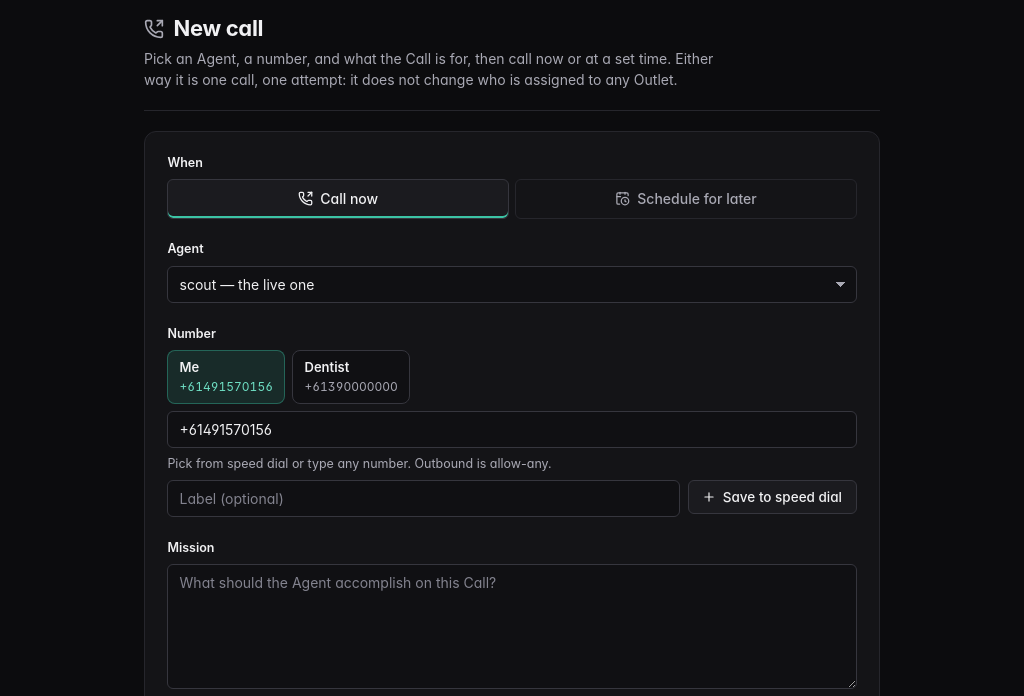
Place a call › leaves the typed Mission intact when dictation is silent
Step 1. Select "scout — the live one" in the dropdown with test id "place-agent" → (512, 284), box 167,266 -> 857,303
Step 2. Type "keep this typed line" into the text box with test id "place-mission" → (512, 626), box 167,564 -> 857,689
(page scrolled)
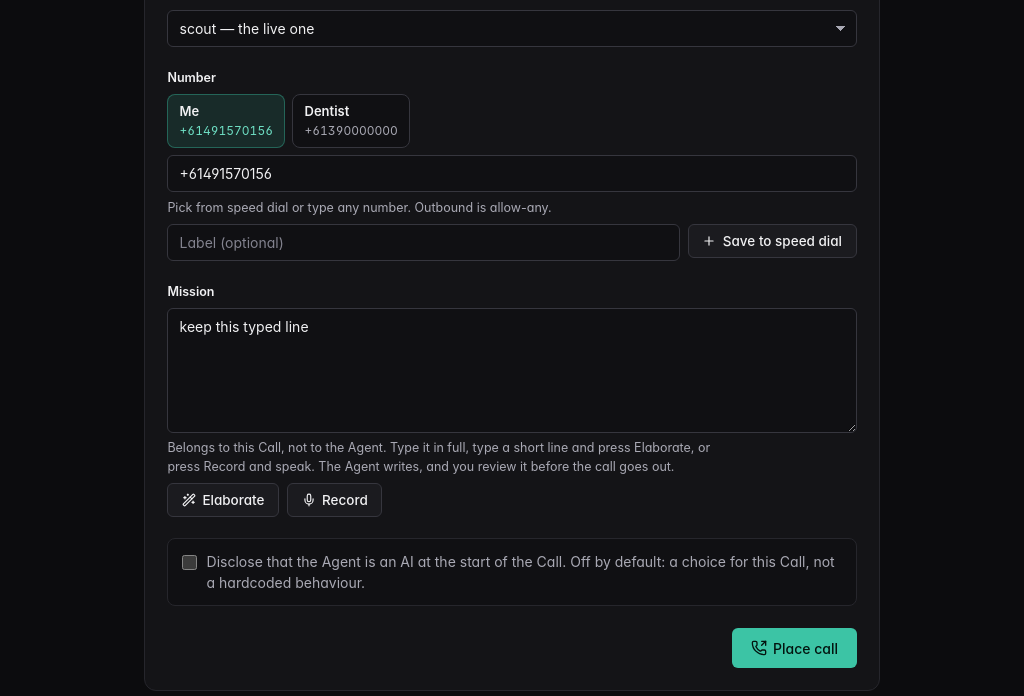
Step 3. Click the button with test id "place-record" → (335, 500), box 287,483 -> 382,517
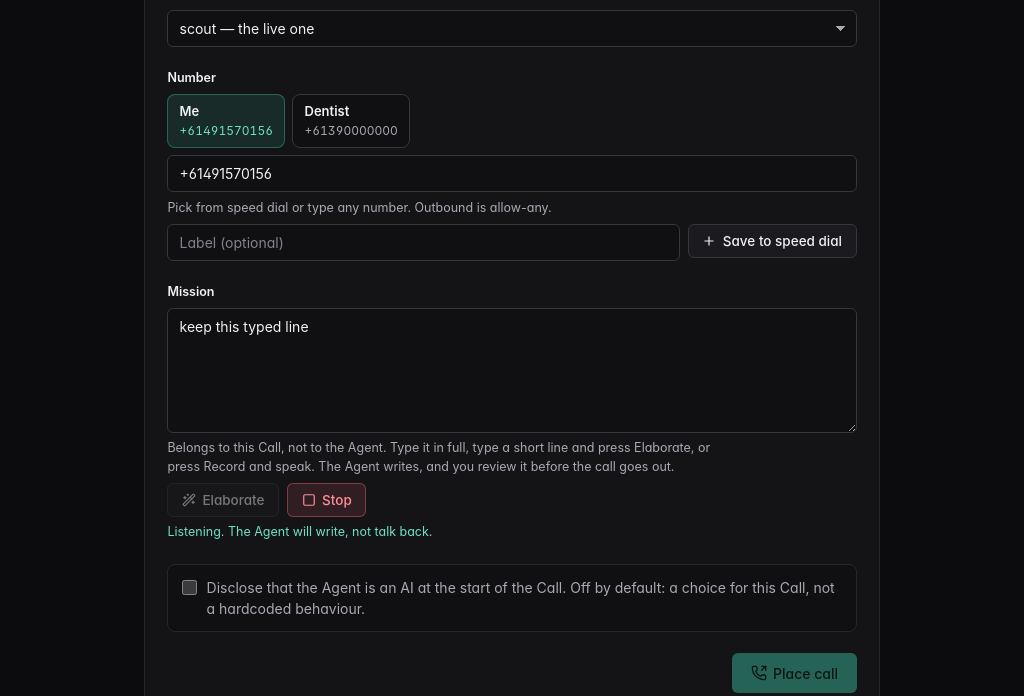
Check: the button with test id "place-record" reads "Stop"
Step 4. Click the button with test id "place-record" → (327, 500), box 287,483 -> 366,517
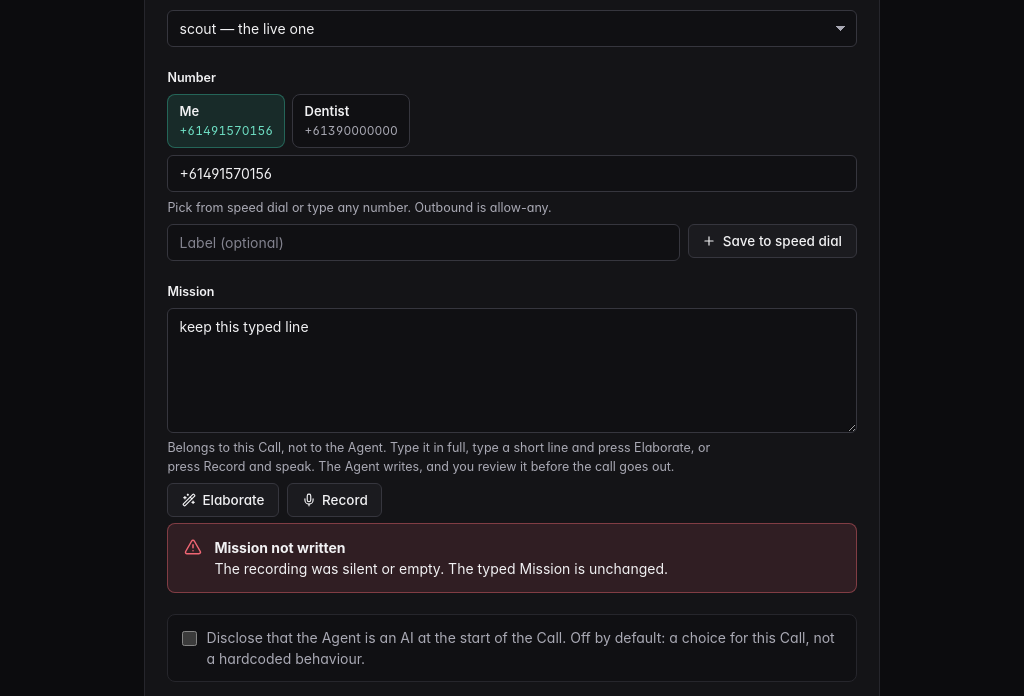
Check: the element with test id "place-assist-error" shows "silent", box 214,560 -> 668,577
